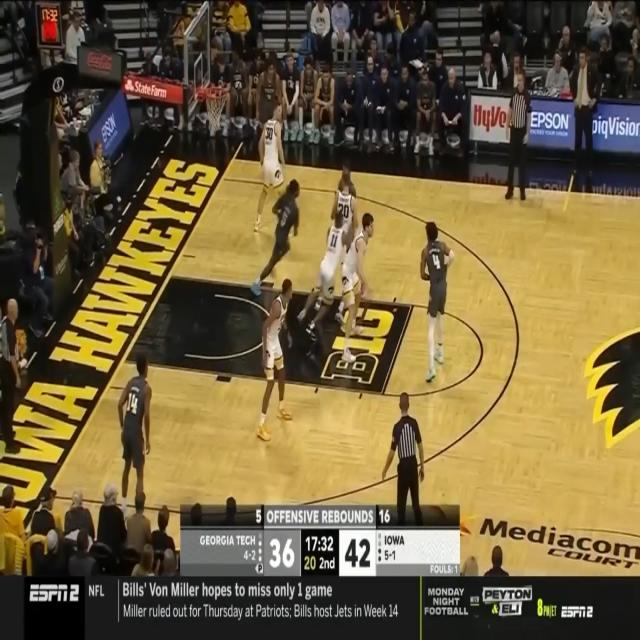Clock: (36, 3, 63, 48)
Hoop: (204, 86, 228, 134)
Overlay: (0, 576, 640, 640), (180, 504, 460, 576)
Player: (298, 208, 356, 342), (255, 275, 294, 443), (251, 178, 300, 298), (252, 99, 294, 237), (420, 220, 455, 381), (315, 174, 356, 310), (339, 211, 375, 364), (117, 354, 151, 503), (335, 161, 370, 299)
Ref: (382, 391, 425, 556), (504, 68, 533, 202), (1, 297, 23, 453)
Scoreboard: (180, 530, 460, 576)
